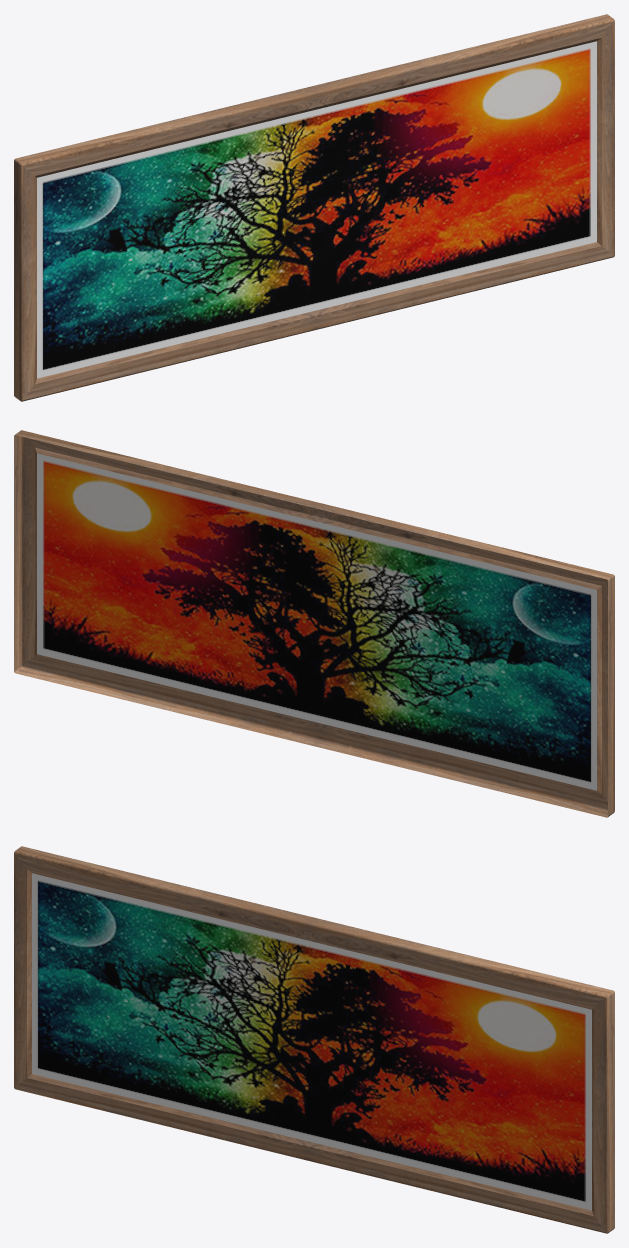
The model's file is paints7.FBX.
The picture shows the model from 3 angles, top to bottom: view 1: azimuth 30°, elevation 25°; view 2: azimuth 150°, elevation 25°; view 3: azimuth 330°, elevation 25°; orthographic projection.
Visible parts, largest first — view 1: paints7; view 2: paints7; view 3: paints7.
Boxes of the visible parts, <box> form: paints7: <box>14,14,614,401</box>; paints7: <box>14,430,614,817</box>; paints7: <box>14,846,614,1233</box>.
Size of the model in its own units: 47.8 by 1.03 by 18.31.
